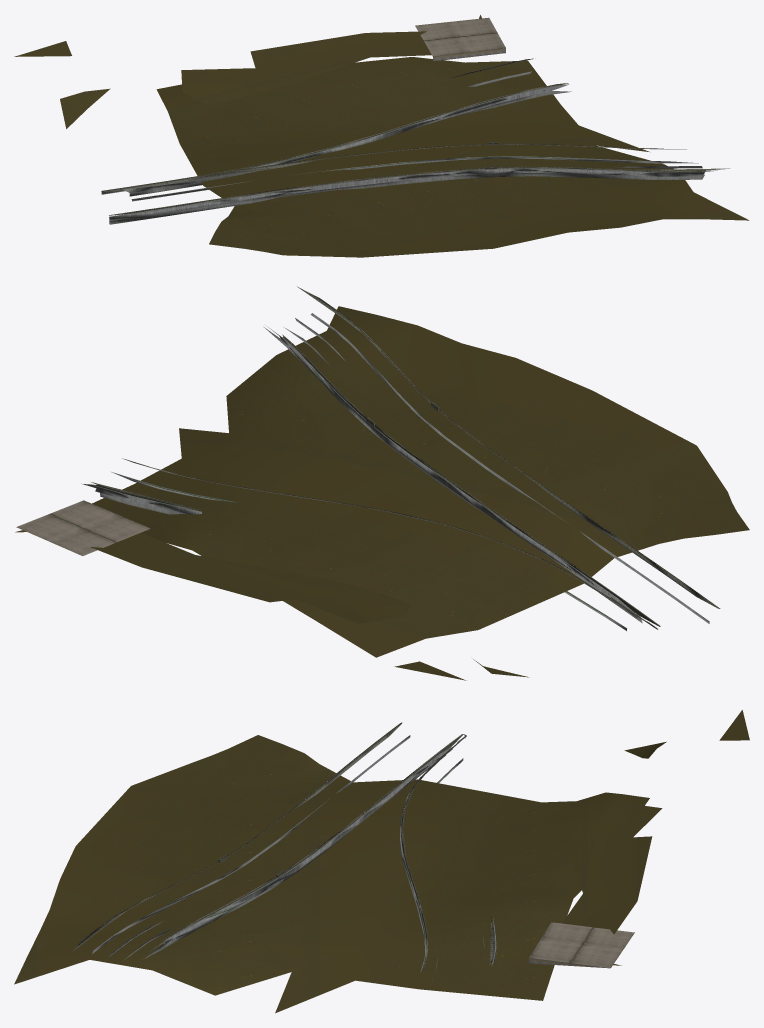
Rendered from world_camden_8_-4.gltf.
The picture shows the model from 3 angles, top to bottom: view 1: azimuth 30°, elevation 25°; view 2: azimuth 150°, elevation 25°; view 3: azimuth 270°, elevation 25°; orthographic projection. The views are drawn at different scales.
Size of the model in its own units: 199 by 20.56 by 226.
5 materials, 5 textured.
